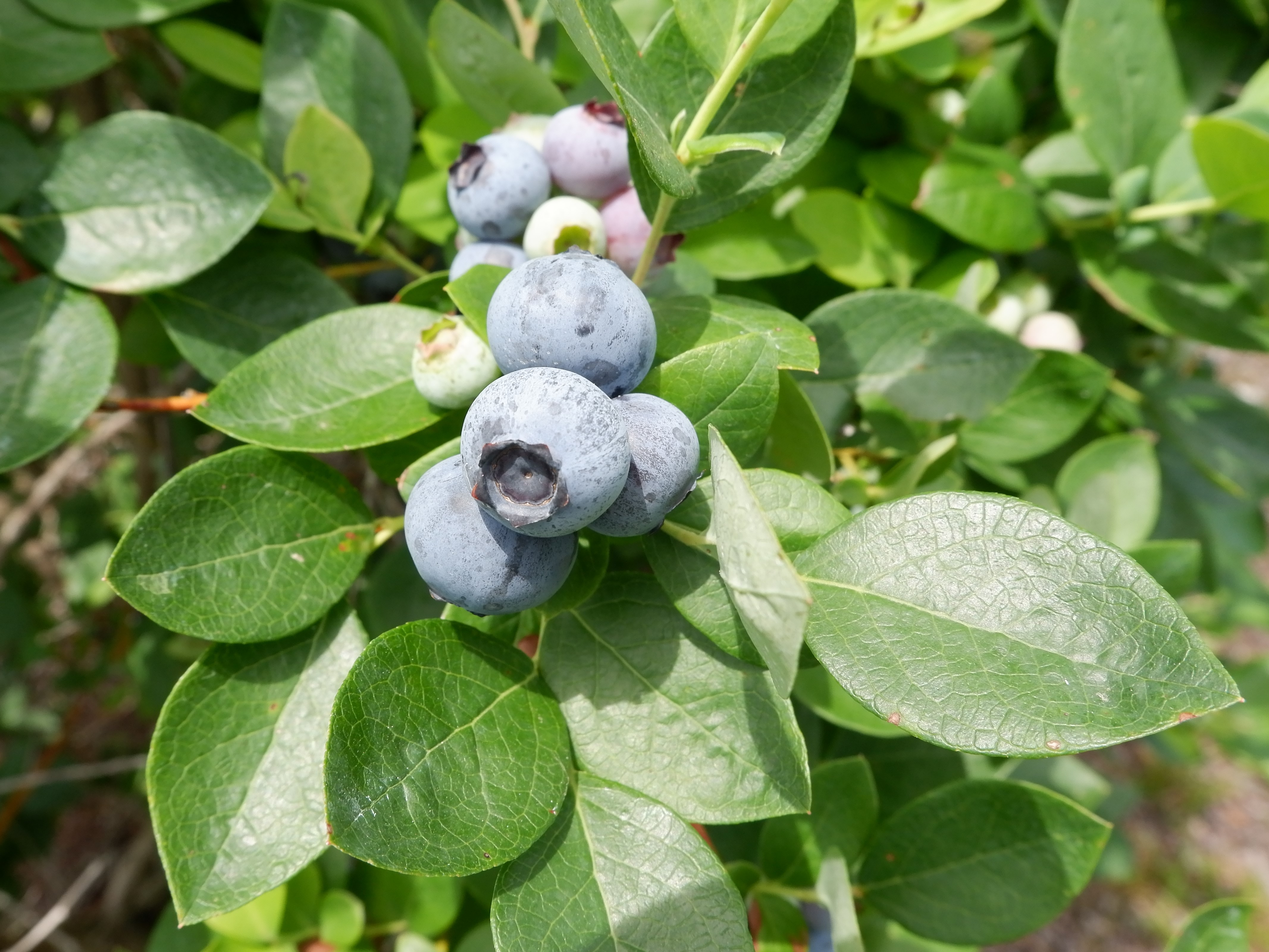Immature: (601, 189, 685, 288), (543, 101, 627, 197), (413, 318, 496, 407), (524, 197, 604, 257), (485, 112, 554, 162)
Mature: (464, 372, 630, 535), (408, 461, 572, 615), (488, 247, 654, 392), (597, 395, 697, 536), (447, 137, 552, 246), (447, 242, 531, 286)
